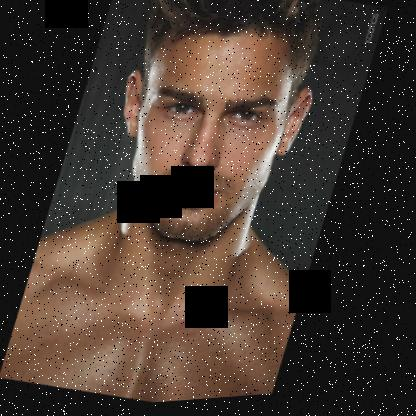Male: (85, 3, 335, 270)
